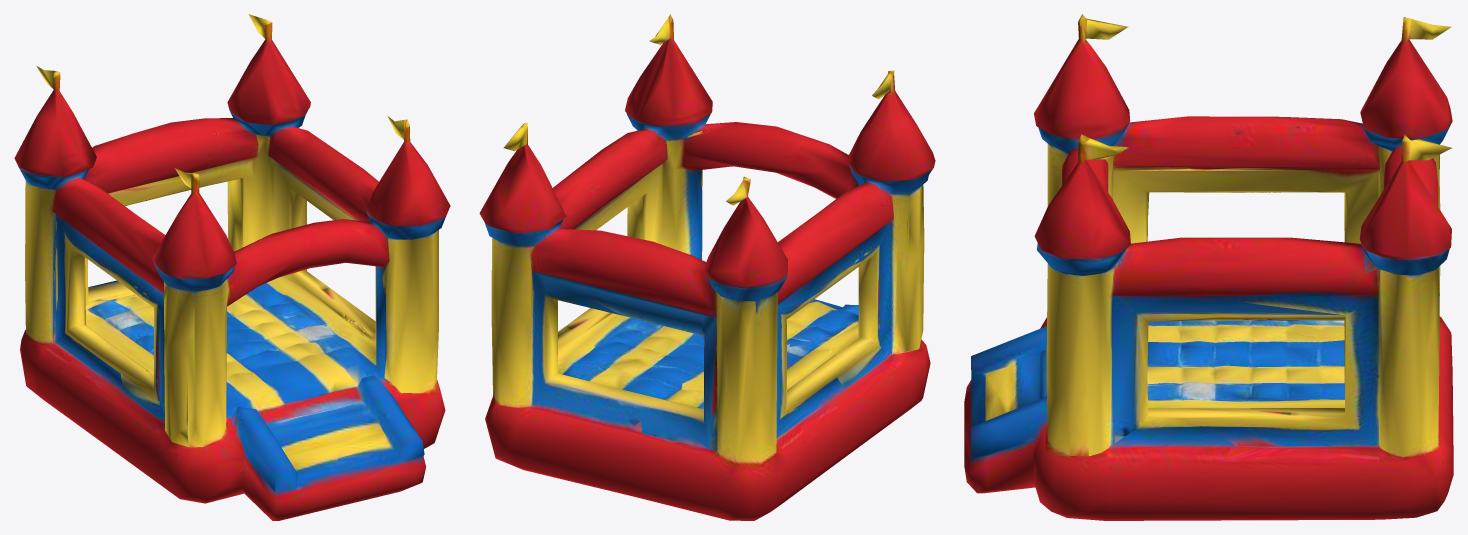
Rendered from bouncy.glb.
3 renders of one model, left to right at view 1: azimuth 30°, elevation 25°; view 2: azimuth 150°, elevation 25°; view 3: azimuth 270°, elevation 25°, orthographic. The views are drawn at different scales.
Parts seen in each view (by area): view 1: model; view 2: model; view 3: model.
Boxes of the visible parts, <box> form: model: <box>14,14,450,520</box>; model: <box>479,14,935,520</box>; model: <box>964,14,1453,520</box>.
Bounding box in the file's own units: 1.49 × 1.62 × 1.9.
Materials: 1 (1 with a texture image).
